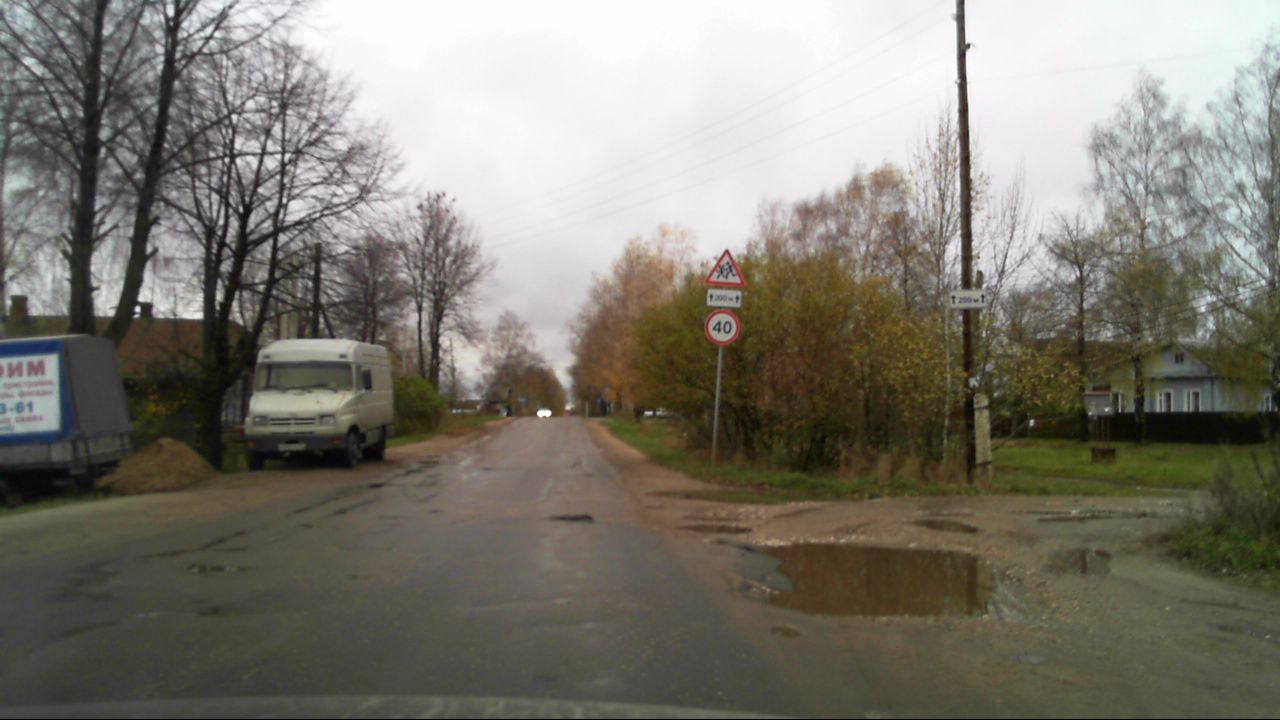speed_warning_40: (702, 307, 742, 347)
